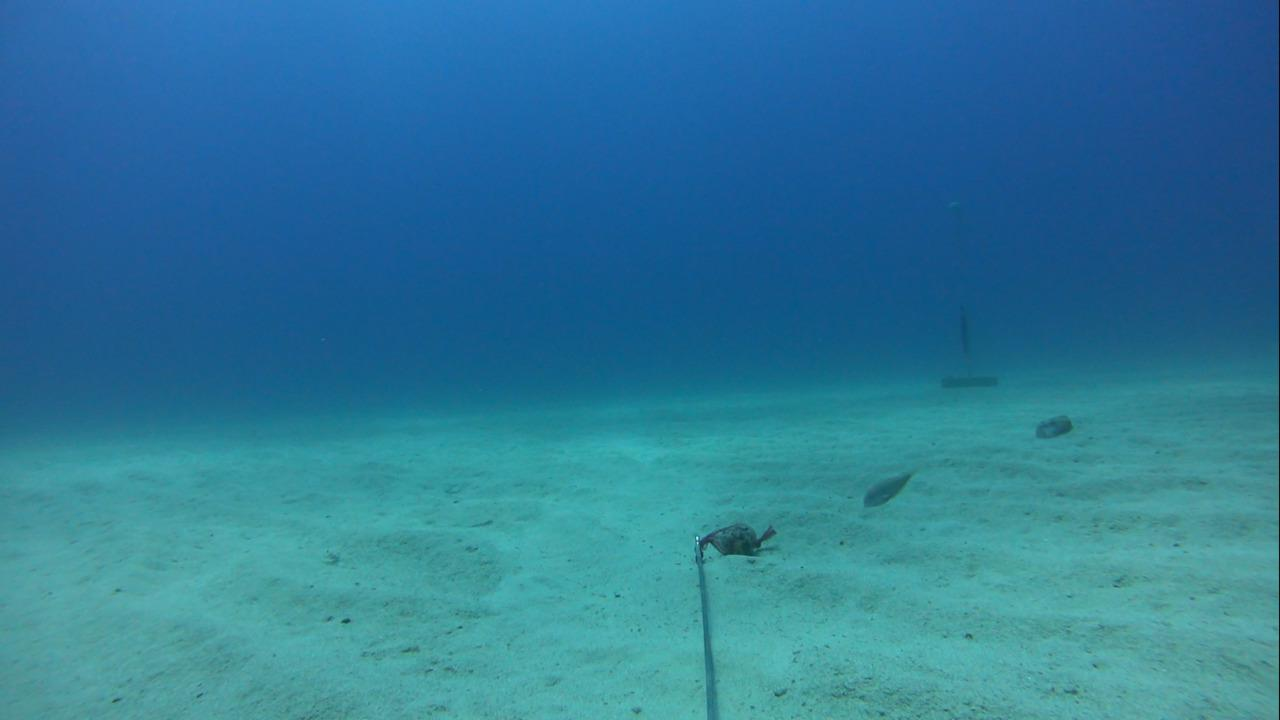raor: (852, 456, 924, 520), (1020, 406, 1086, 450)
